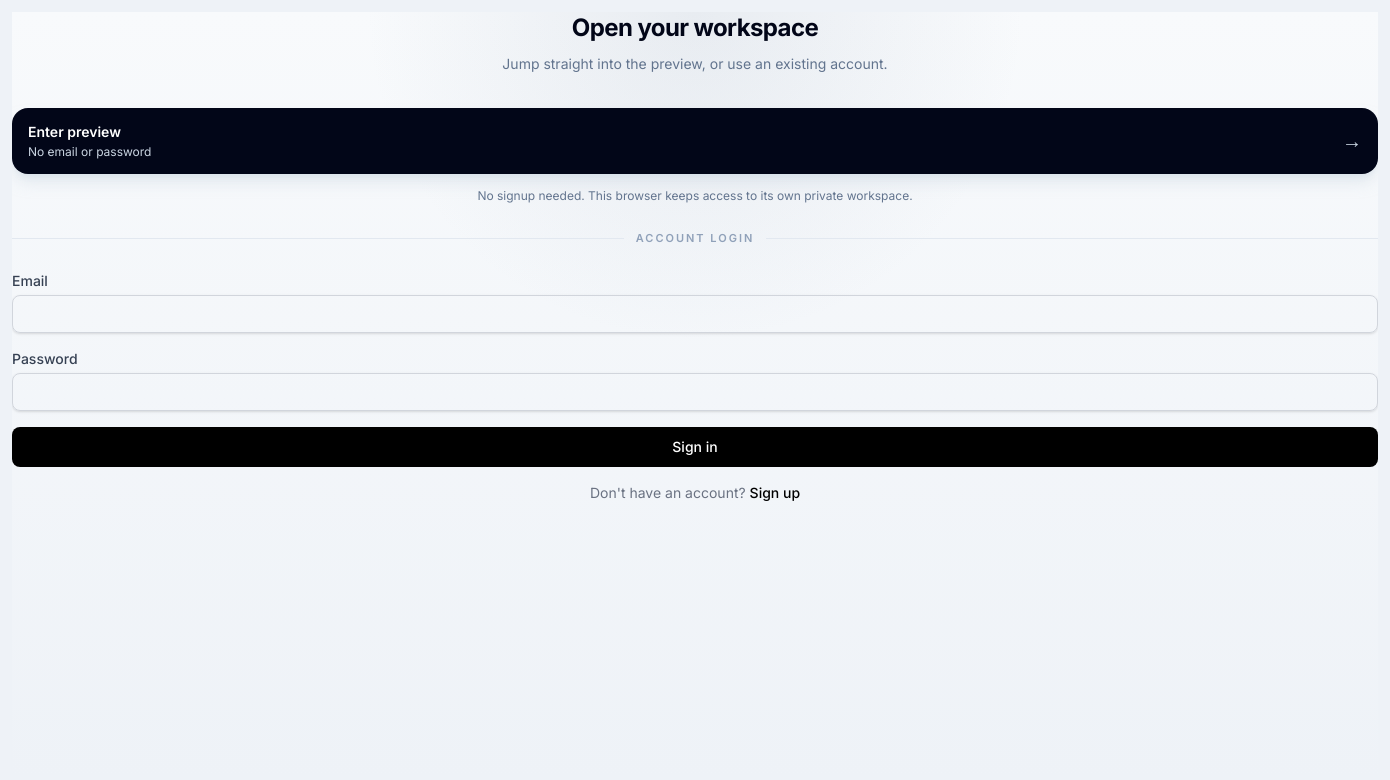
it: LoginForm › submission › displays server error message on failure
Type "user@example.com" into the field labelled "Email" at (695, 314), box [12,294,1378,332]
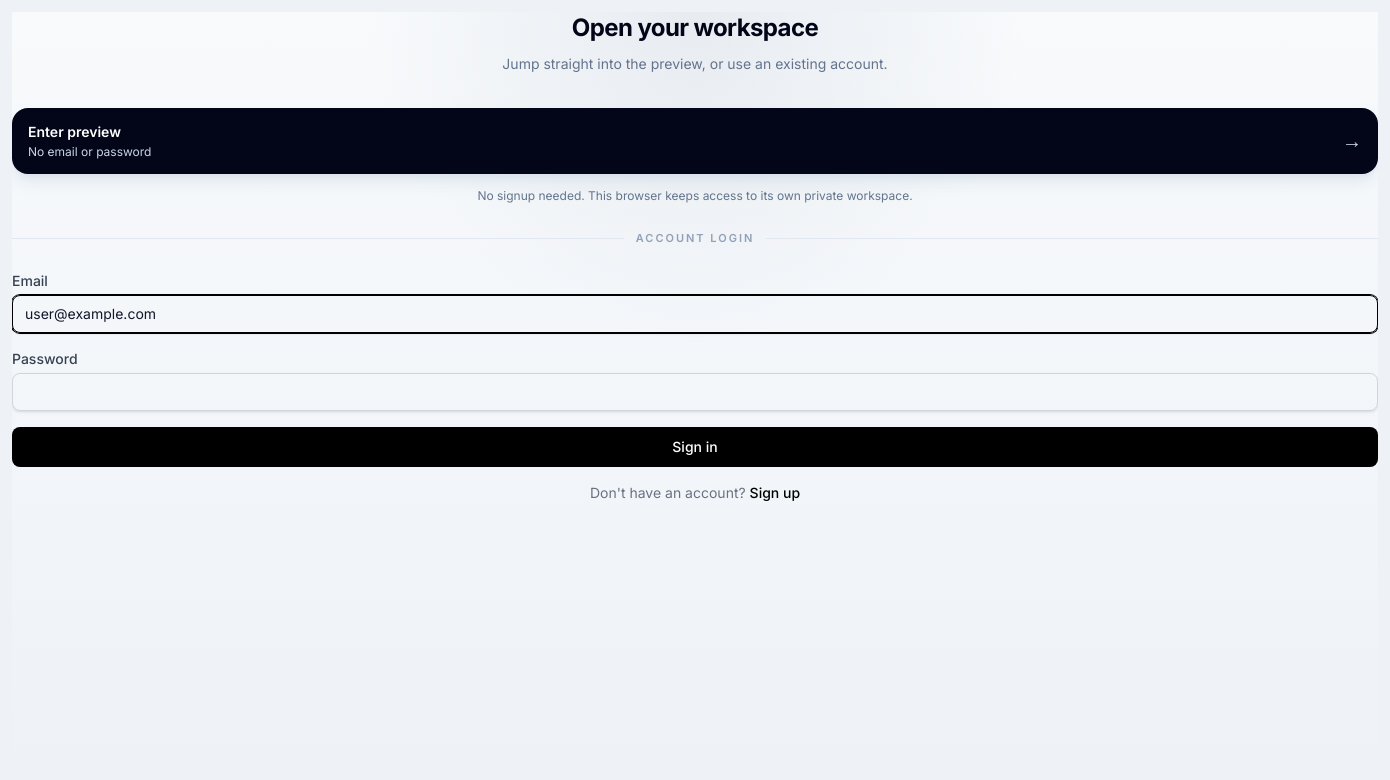
Type "wrongpassword" into the password field labelled "Password" at (695, 392), box [12,372,1378,410]
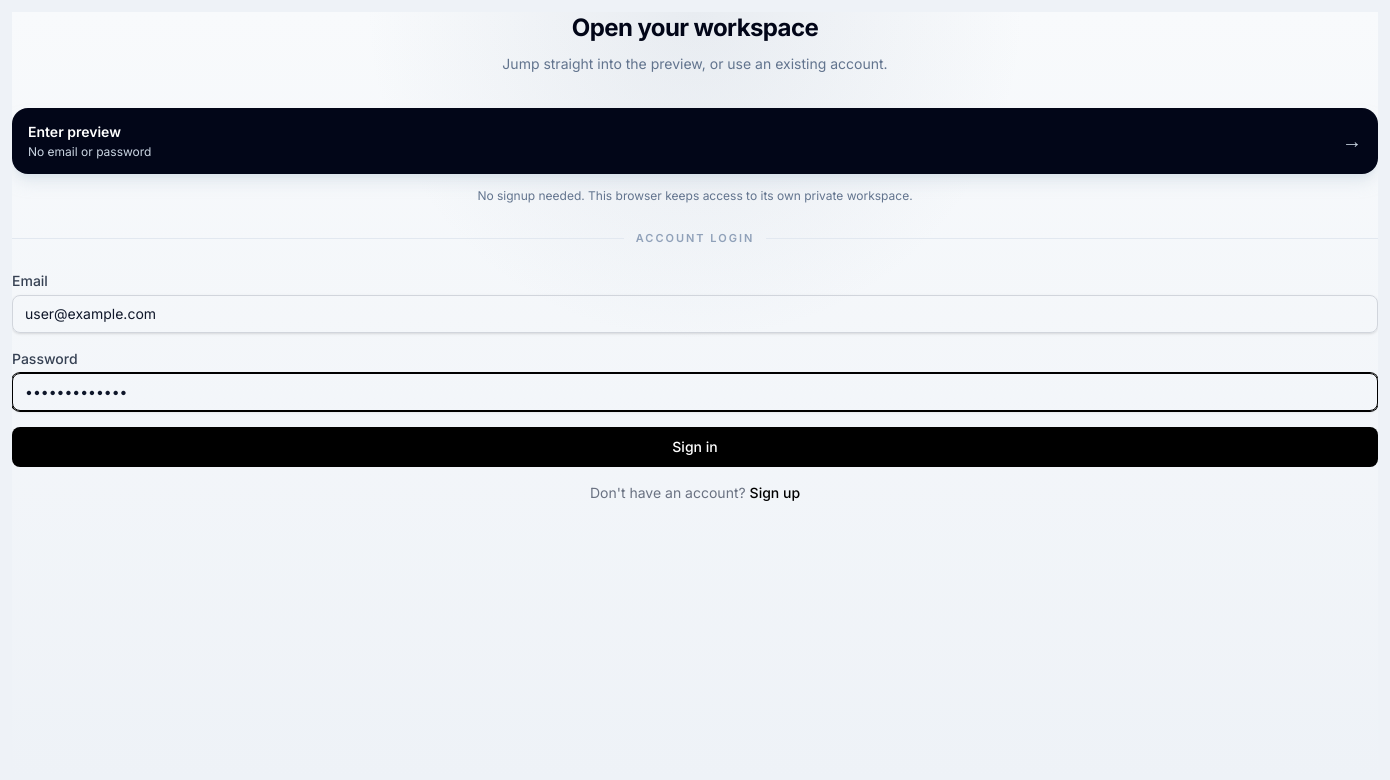
Click the button "Sign in" at (695, 446), box [12,426,1378,466]
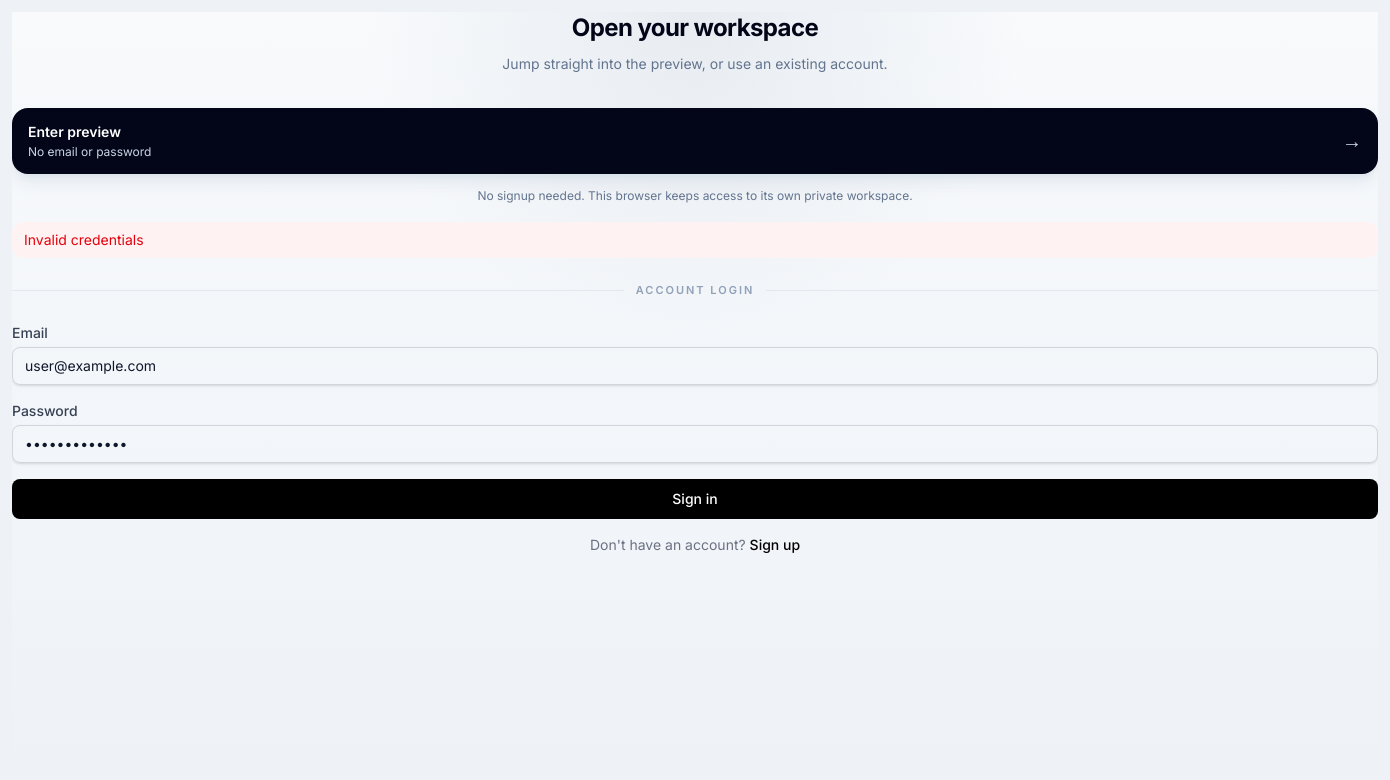
Check: the message reads "Invalid credentials", box [24,231,144,248]
